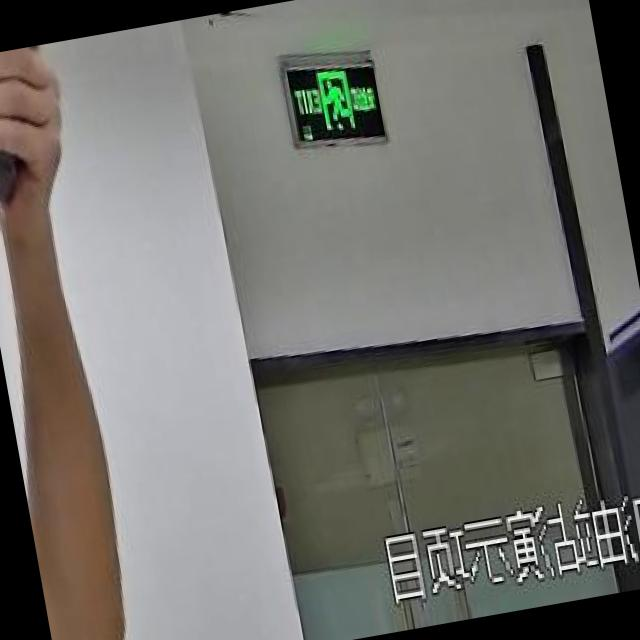Guns: (0, 37, 111, 218)
